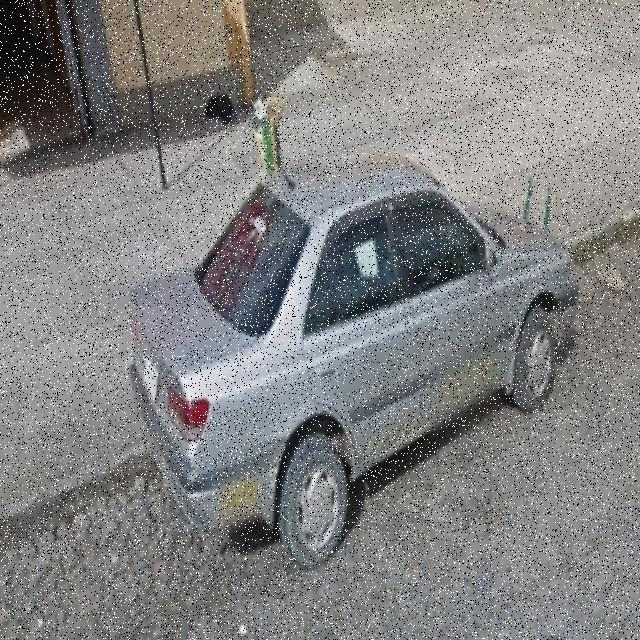cars: (132, 154, 583, 553)
